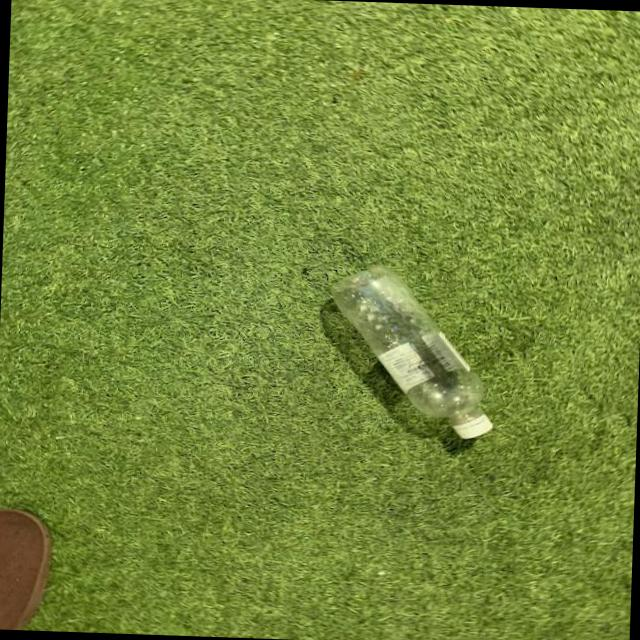plastic_bottle: (324, 266, 499, 440)
